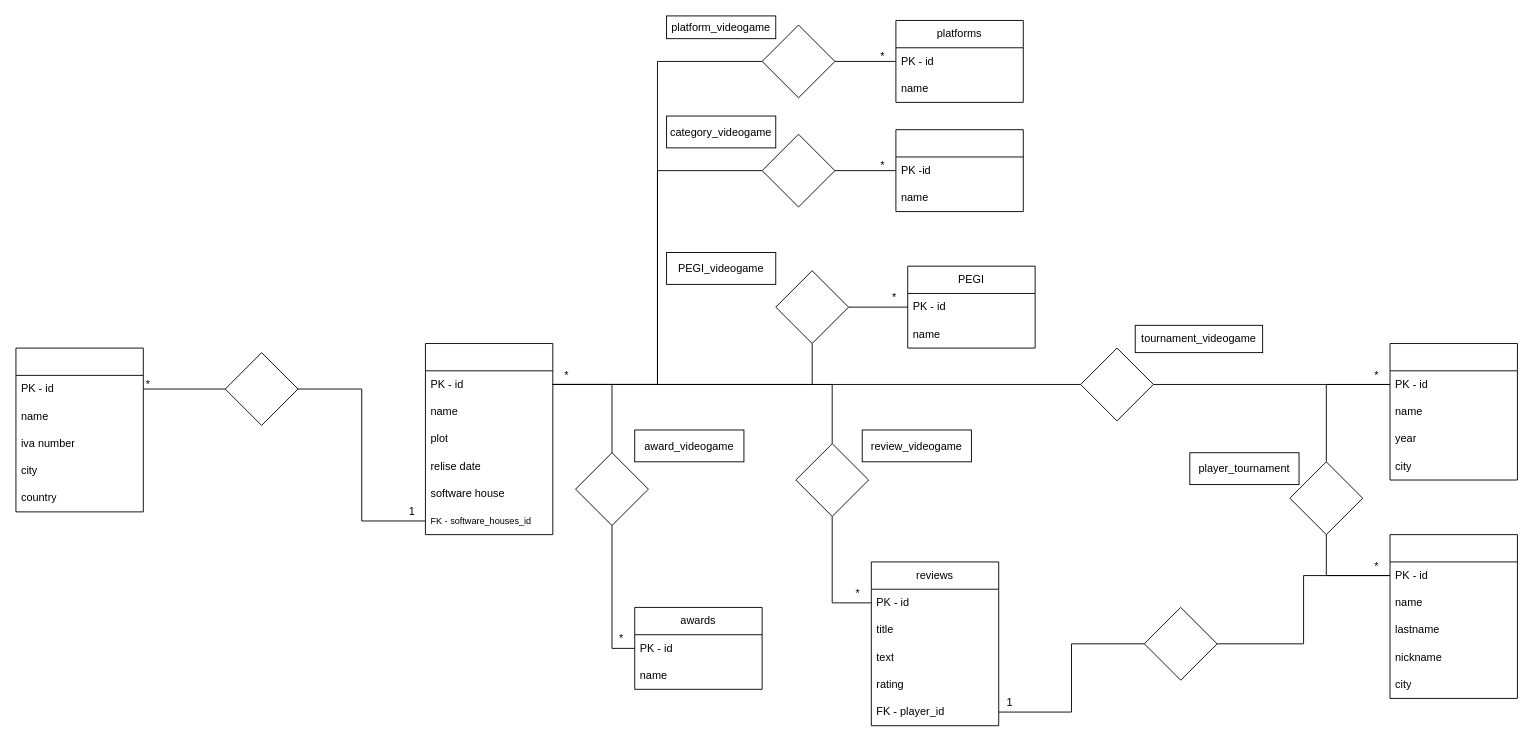
Image size: 1533x742. Some labels were removed from this diagram. Here are the shapes that lost their labels. From the top down, the box of each, then its label:
(895, 129, 1023, 212): categories
(15, 347, 143, 512): software houses
(1389, 343, 1517, 480): tournaments
(425, 343, 553, 535): videogames
(1389, 534, 1517, 698): players
